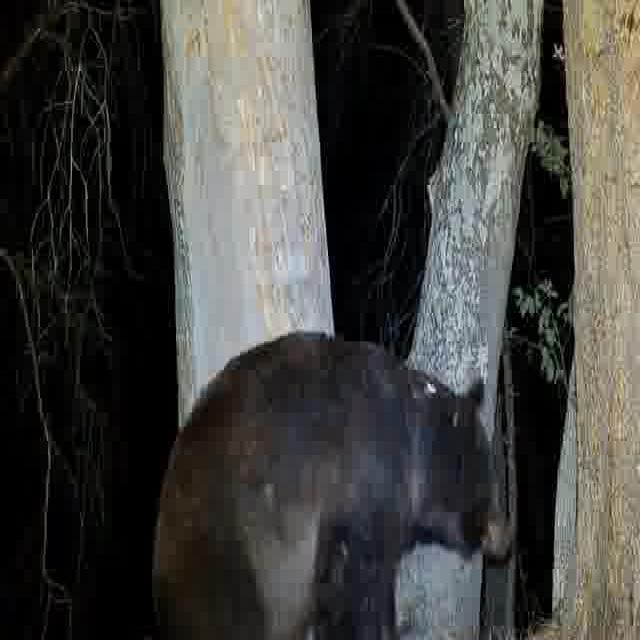bear face: (150, 328, 519, 640)
